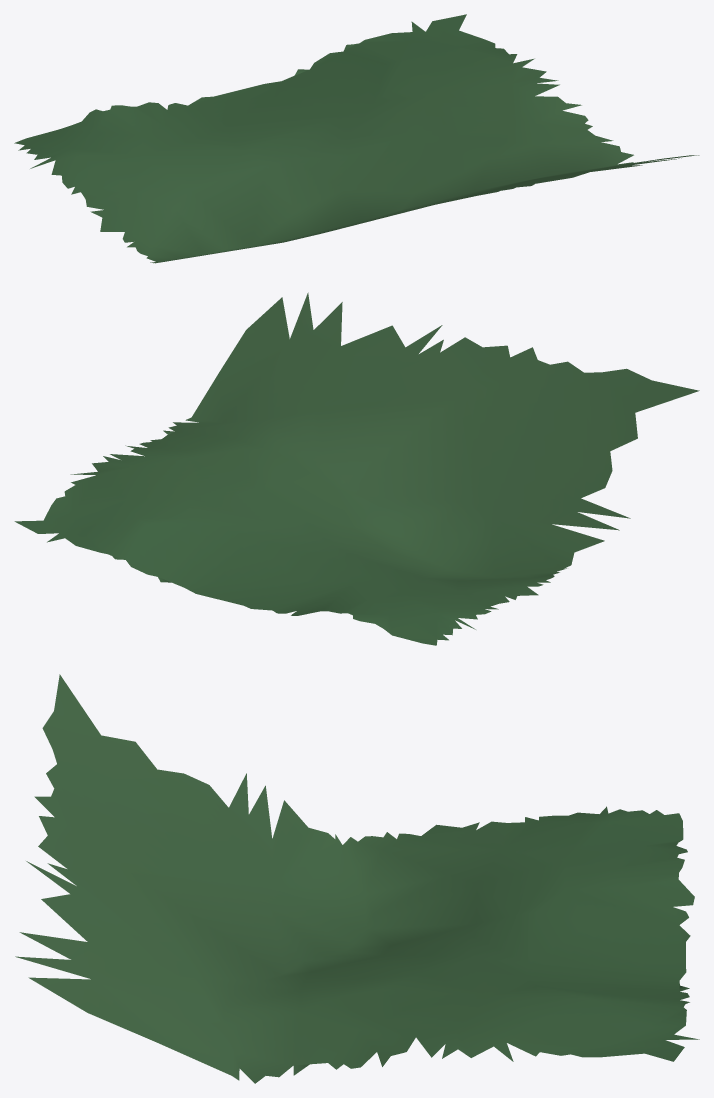
The model's file is payo_land_x0_y9_lod2.glb.
3 views of the same model, one above another, from view 1: azimuth 30°, elevation 25°; view 2: azimuth 150°, elevation 25°; view 3: azimuth 270°, elevation 25° (orthographic). The views are drawn at different scales.
Visible parts, largest first — view 1: payo_land_x0_y9; view 2: payo_land_x0_y9; view 3: payo_land_x0_y9.
Boxes of the visible parts, box(x1,y1,x2,y2) form: payo_land_x0_y9: box(14, 14, 699, 263); payo_land_x0_y9: box(14, 292, 699, 645); payo_land_x0_y9: box(15, 674, 699, 1083).
Bounding box in the file's own units: 285 × 75.33 × 278.
